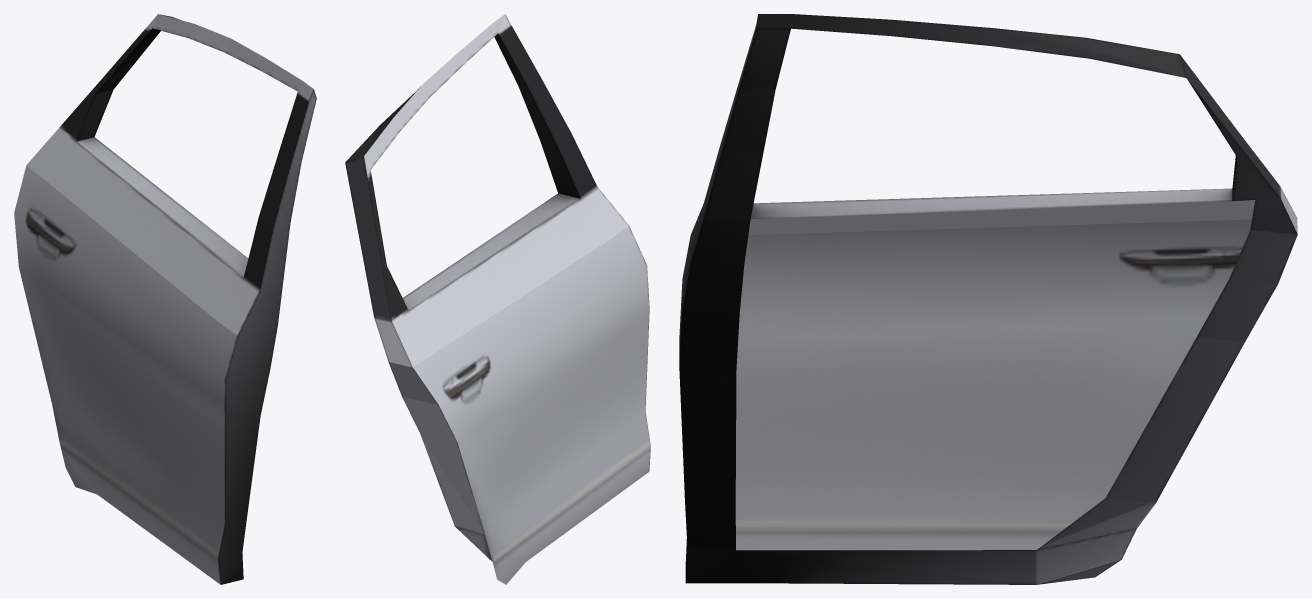
Rendered from houchemen003.FBX.
3 renders of one model, left to right at view 1: azimuth 30°, elevation 25°; view 2: azimuth 150°, elevation 25°; view 3: azimuth 270°, elevation 25°, orthographic. The views are drawn at different scales.
Visible parts, largest first — view 1: houchemen003; view 2: houchemen003; view 3: houchemen003.
Boxes of the visible parts, x1,y1,x2,y2 form: houchemen003: (14,14,316,584); houchemen003: (345,14,650,584); houchemen003: (679,14,1297,584).
Size of the model in its own units: 183 by 598 by 519.
